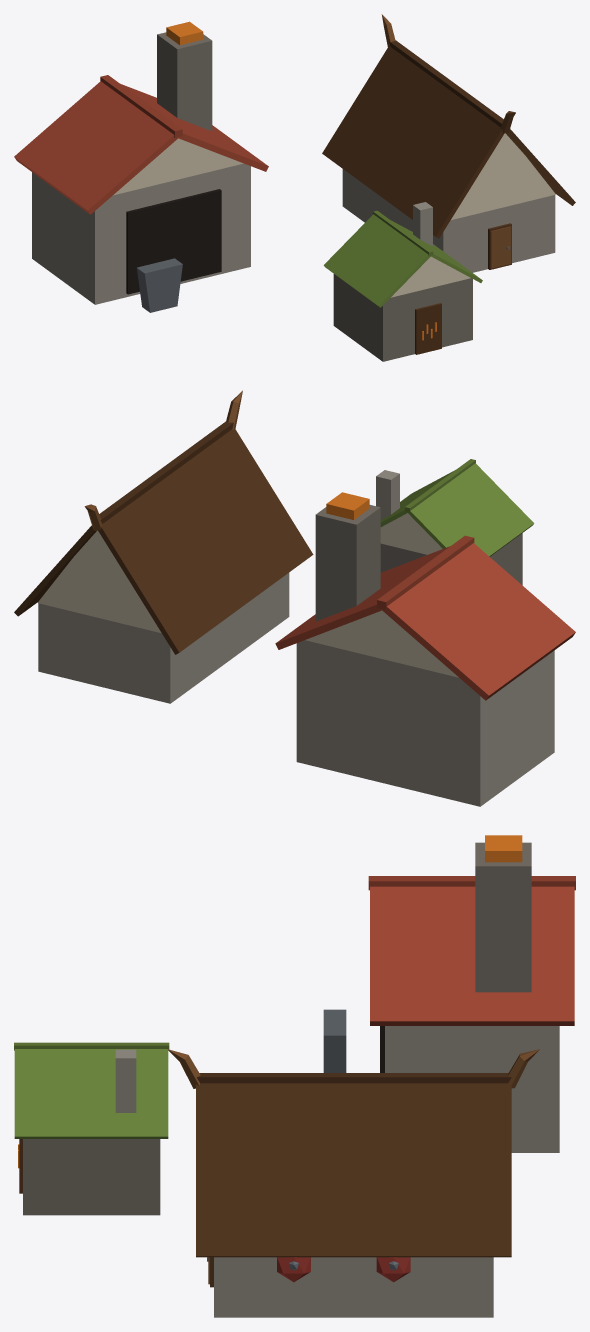
The model's file is dwarf_compound_broken.glb.
3 renders of one model, top to bottom at view 1: azimuth 30°, elevation 25°; view 2: azimuth 150°, elevation 25°; view 3: azimuth 270°, elevation 25°, orthographic. The views are drawn at different scales.
Parts seen in each view (by area): view 1: dwarf_compound_piece8, dwarf_compound_piece4, dwarf_compound_piece3, dwarf_compound_piece0, dwarf_compound_piece2, dwarf_compound_piece7, dwarf_compound_piece1, dwarf_compound_piece6, dwarf_compound_piece9, dwarf_compound_piece13, dwarf_compound_piece5, dwarf_compound_piece11 (+2 smaller); view 2: dwarf_compound_piece4, dwarf_compound_piece7, dwarf_compound_piece1, dwarf_compound_piece2, dwarf_compound_piece9, dwarf_compound_piece8, dwarf_compound_piece3, dwarf_compound_piece5, dwarf_compound_piece13, dwarf_compound_piece11, dwarf_compound_piece10; view 3: dwarf_compound_piece1, dwarf_compound_piece2, dwarf_compound_piece0, dwarf_compound_piece3, dwarf_compound_piece13, dwarf_compound_piece7, dwarf_compound_piece11, dwarf_compound_piece8, dwarf_compound_piece12, dwarf_compound_piece9, dwarf_compound_piece6, dwarf_compound_piece4 (+1 smaller).
Boxes of the visible parts, x1,y1,x2,y2 form: dwarf_compound_piece8: (85, 111, 224, 312); dwarf_compound_piece4: (14, 75, 148, 297); dwarf_compound_piece3: (369, 202, 482, 361); dwarf_compound_piece0: (444, 134, 575, 272); dwarf_compound_piece2: (387, 55, 484, 231); dwarf_compound_piece7: (322, 54, 402, 226); dwarf_compound_piece1: (129, 21, 256, 158); dwarf_compound_piece6: (199, 150, 343, 332); dwarf_compound_piece9: (351, 203, 449, 351); dwarf_compound_piece13: (433, 106, 515, 207); dwarf_compound_piece5: (324, 209, 438, 350); dwarf_compound_piece11: (381, 14, 415, 160); dwarf_compound_piece4: (338, 571, 573, 806); dwarf_compound_piece7: (14, 535, 256, 703); dwarf_compound_piece1: (275, 492, 445, 763); dwarf_compound_piece2: (117, 440, 282, 647); dwarf_compound_piece9: (282, 477, 521, 606); dwarf_compound_piece8: (415, 535, 575, 760); dwarf_compound_piece3: (288, 459, 534, 617); dwarf_compound_piece5: (250, 512, 501, 645); dwarf_compound_piece13: (200, 390, 286, 544); dwarf_compound_piece11: (70, 501, 218, 569); dwarf_compound_piece10: (324, 558, 476, 774); dwarf_compound_piece1: (370, 835, 574, 1149); dwarf_compound_piece2: (254, 1073, 461, 1317); dwarf_compound_piece0: (196, 1098, 393, 1317); dwarf_compound_piece3: (14, 1042, 167, 1215); dwarf_compound_piece13: (167, 1049, 367, 1234); dwarf_compound_piece7: (418, 1136, 511, 1317); dwarf_compound_piece11: (450, 1049, 539, 1242); dwarf_compound_piece8: (323, 876, 440, 1072); dwarf_compound_piece12: (380, 1030, 559, 1152); dwarf_compound_piece9: (96, 1042, 169, 1140); dwarf_compound_piece6: (370, 958, 424, 1072); dwarf_compound_piece4: (531, 876, 575, 916).
Size of the model in its own units: 5.46 by 2.6 by 4.5.
